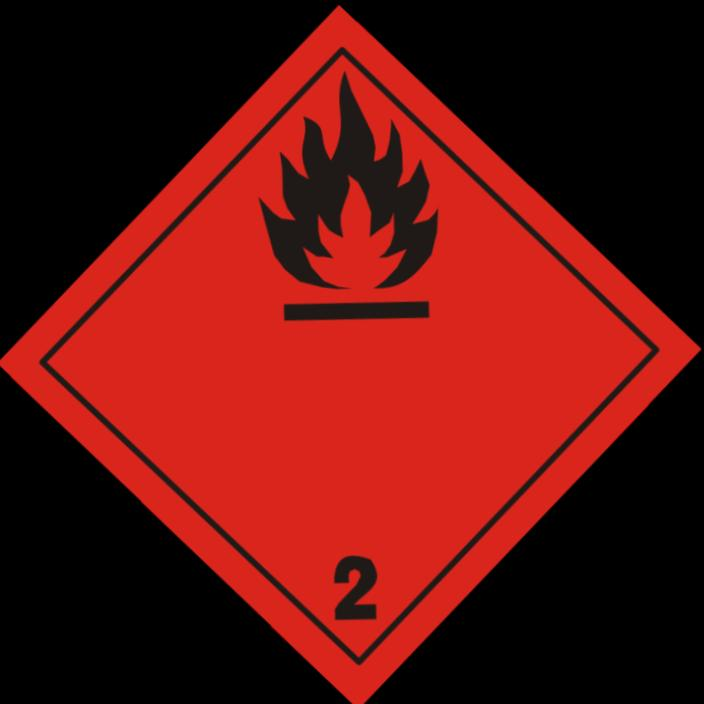bench: (0, 5, 701, 704)
